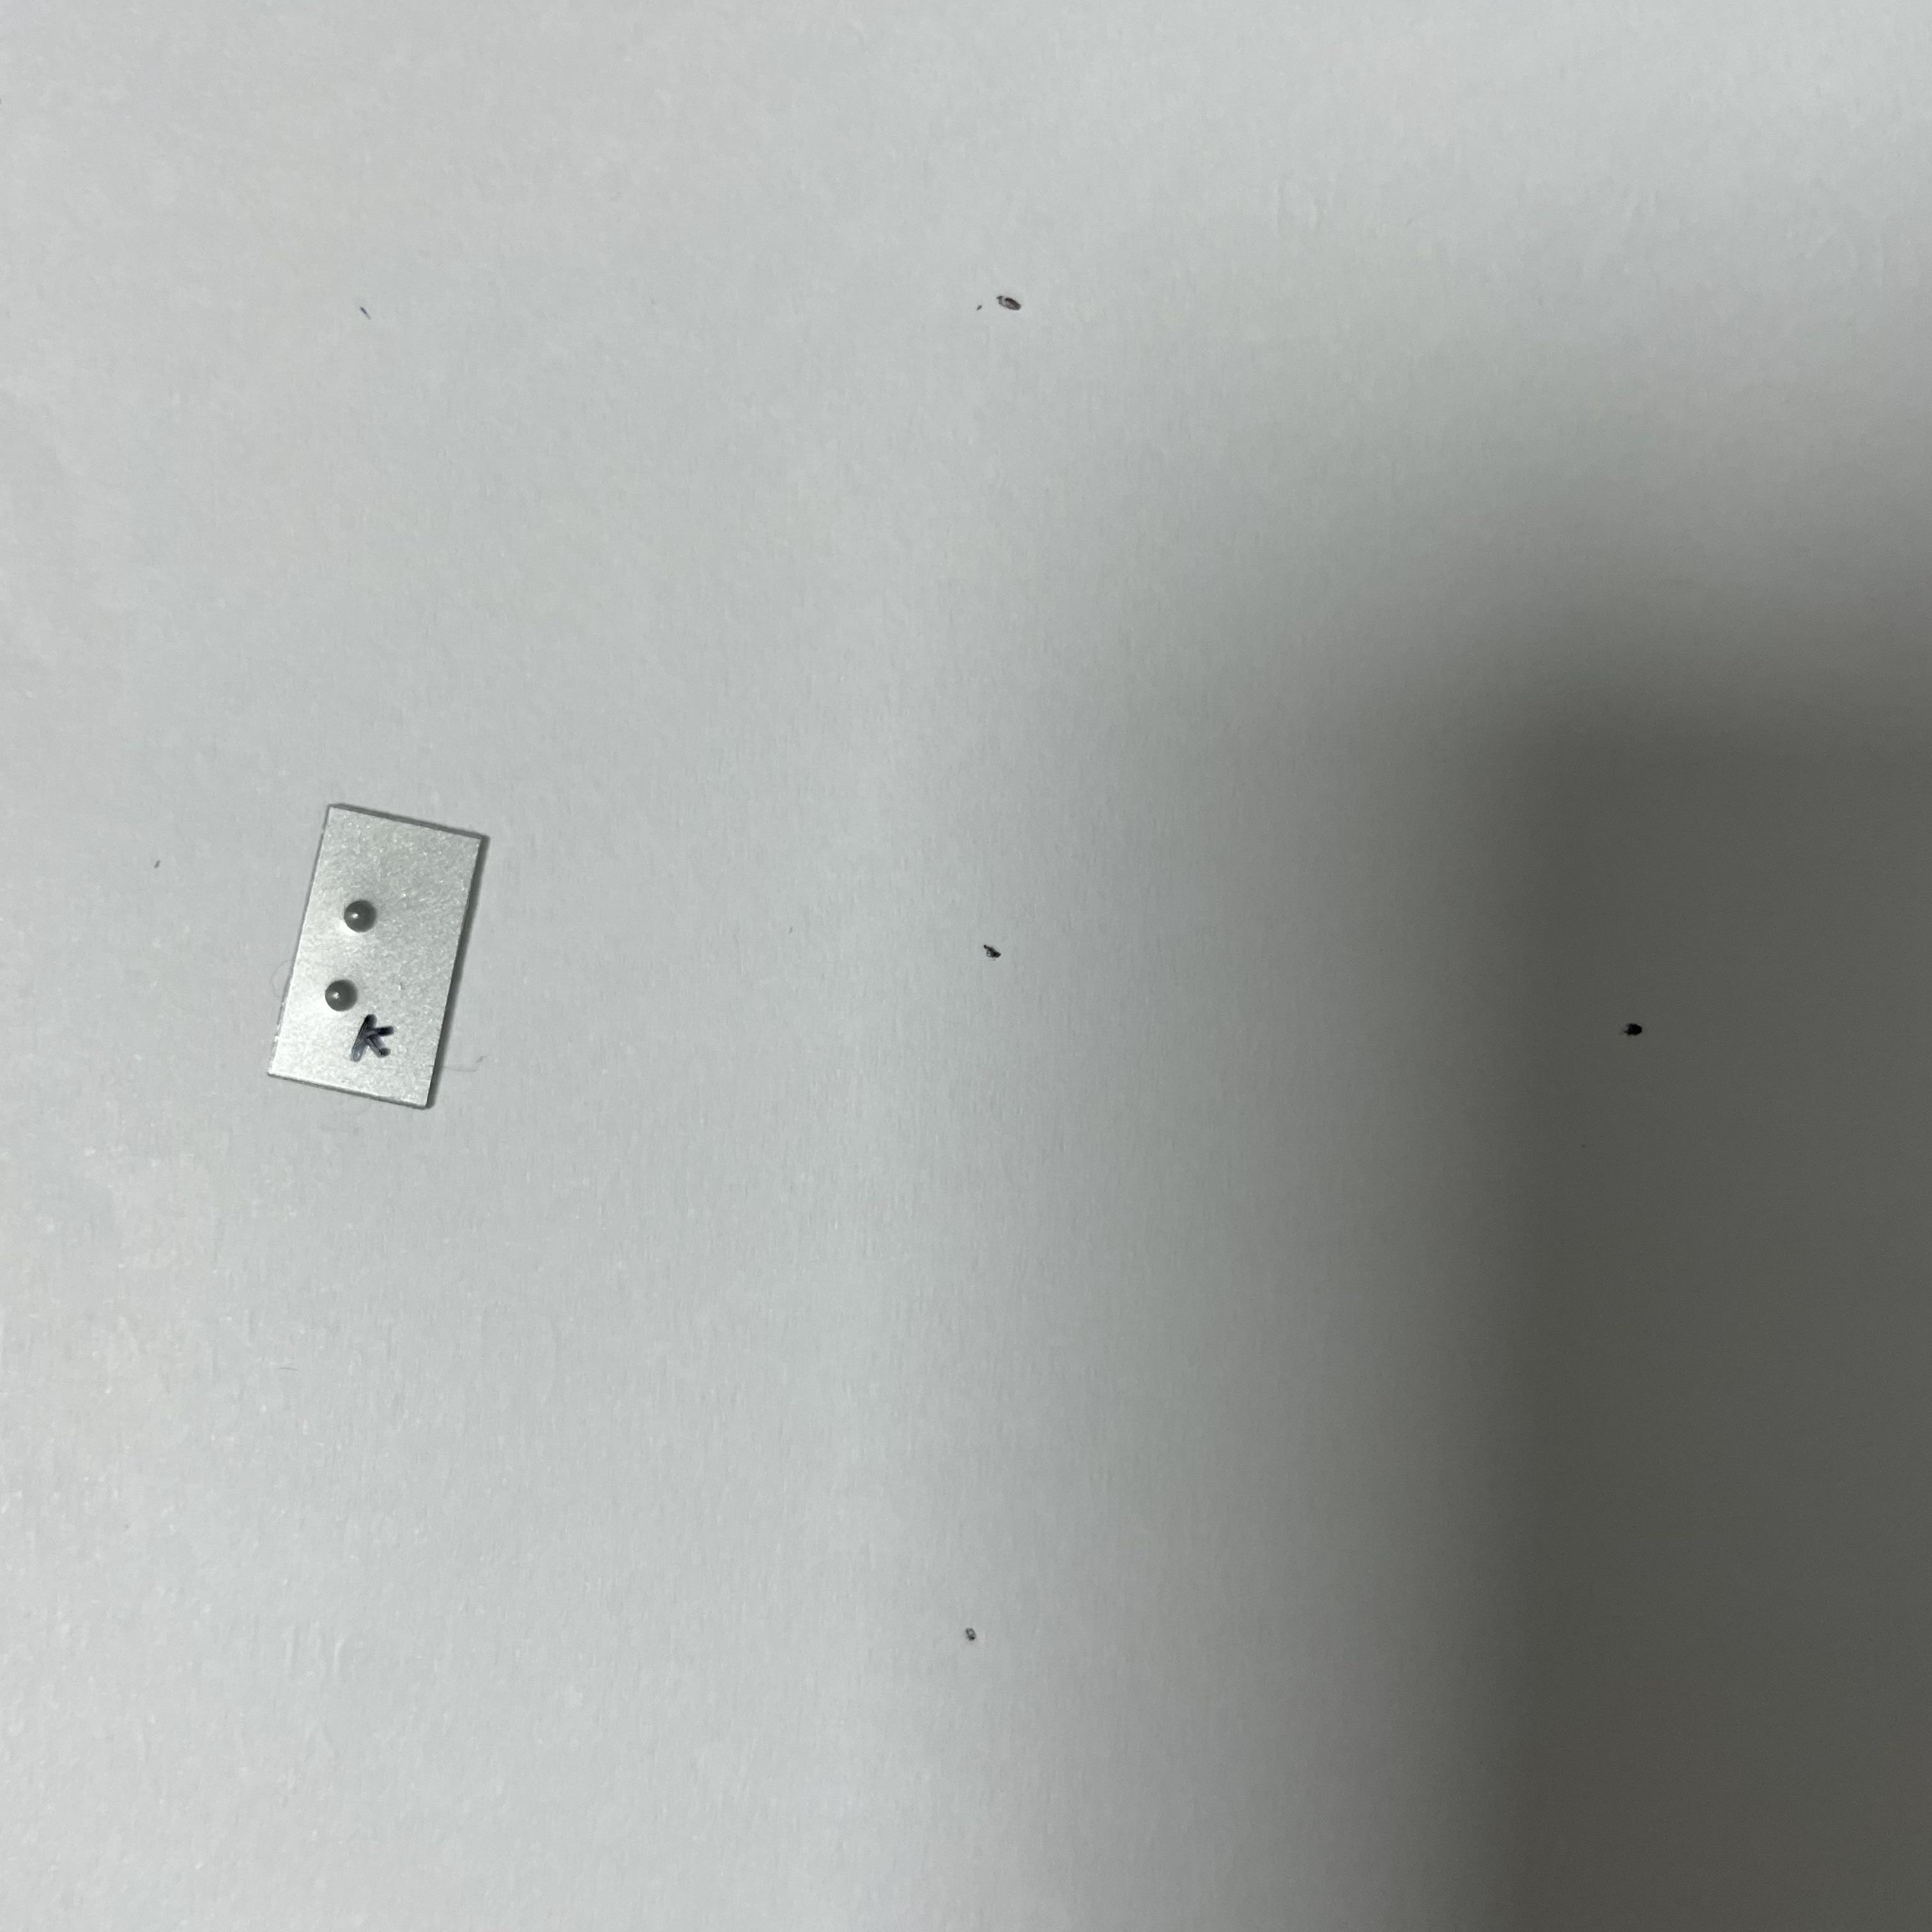k: (322, 885, 426, 1020)
